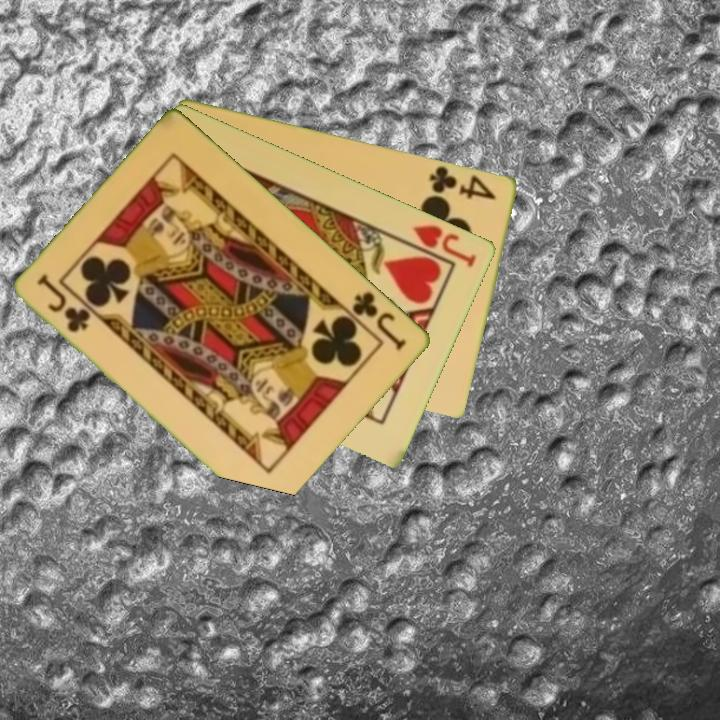4c: (426, 162, 500, 203)
Jc: (349, 288, 410, 353), (34, 271, 94, 336)
Jh: (409, 220, 480, 270)
